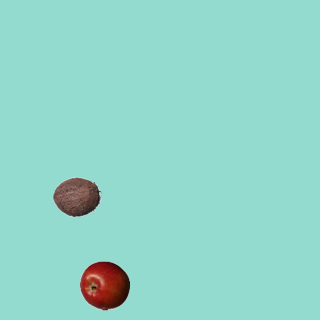Apple Braeburn: (79, 260, 129, 310)
Cocos: (51, 171, 101, 221)
